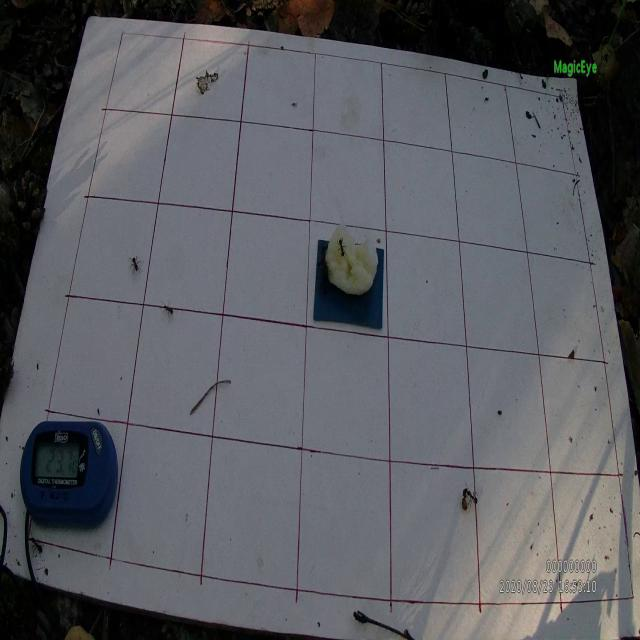Ant: (30, 531, 44, 561), (465, 484, 479, 508), (128, 255, 142, 274), (337, 237, 347, 258), (162, 301, 173, 318)
